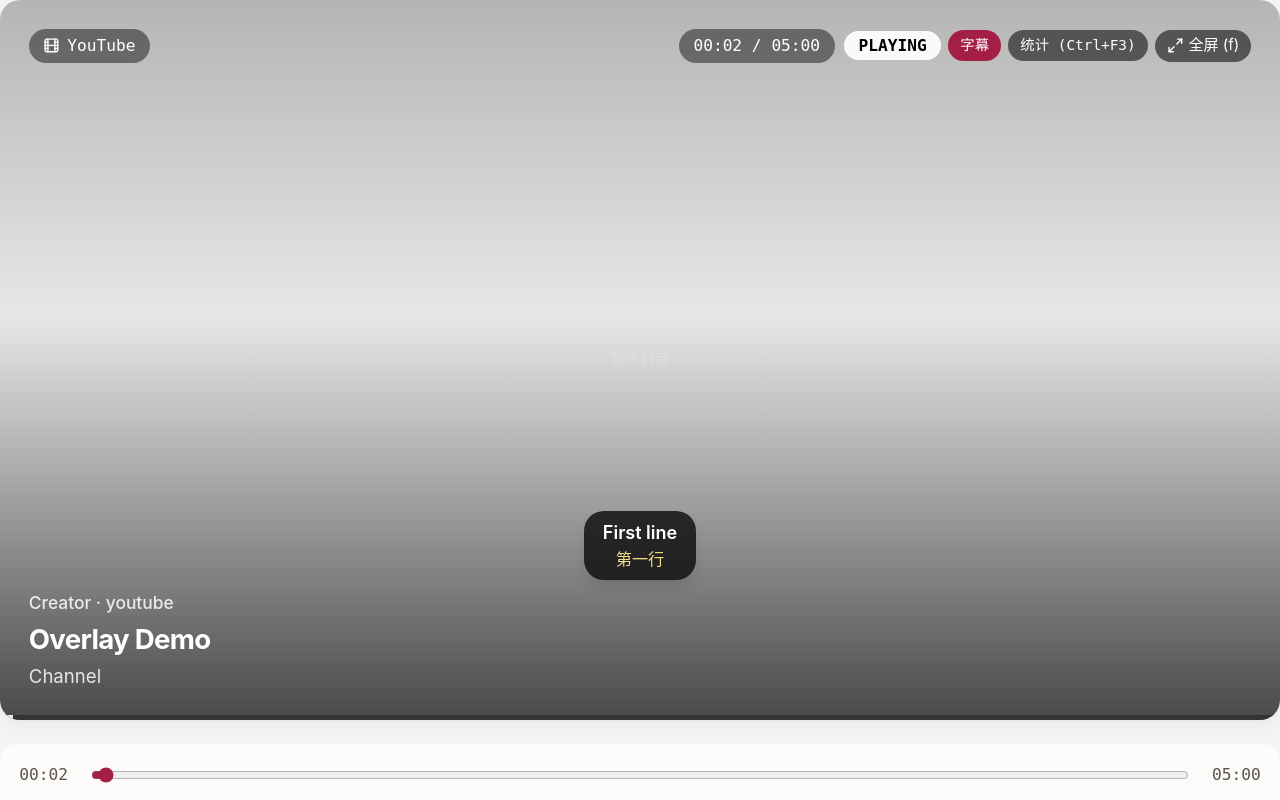
Test: MediaWorkbench real mpv integration › renders active bilingual subtitles overlaid on the video surface and toggles visibility
Expected: the element with test id "video-subtitle-overlay" shows "First line", [603,522,677,543]
Expected: the element with test id "video-subtitle-overlay" shows "第一行", [616,549,664,569]
Click the button with aria-label "隐藏视频字幕".
click(975, 46)  # box [948,30,1001,61]
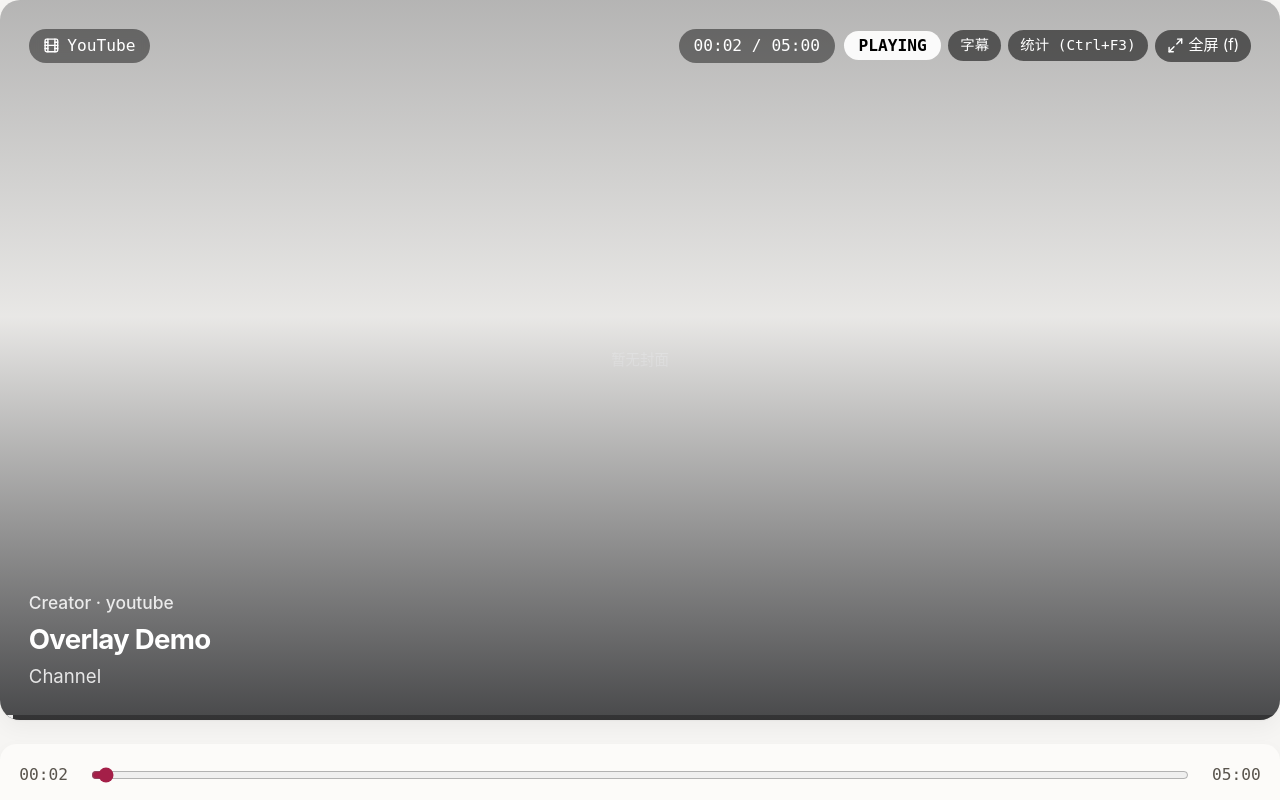
Expected: the element with test id "video-subtitle-overlay" is gone
Click the button with aria-label "显示视频字幕".
click(975, 46)  # box [948,30,1001,61]
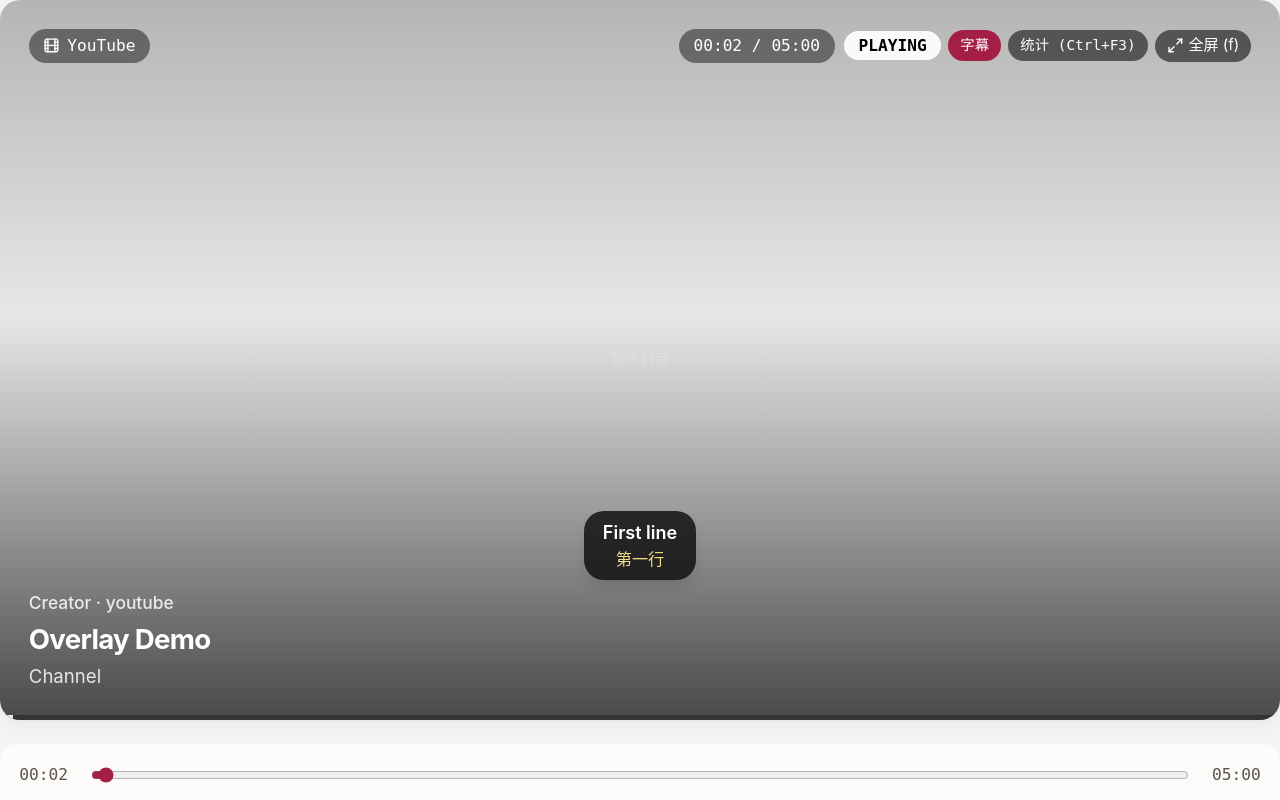
Expected: the element with test id "video-subtitle-overlay" shows "First line", [603,522,677,543]
